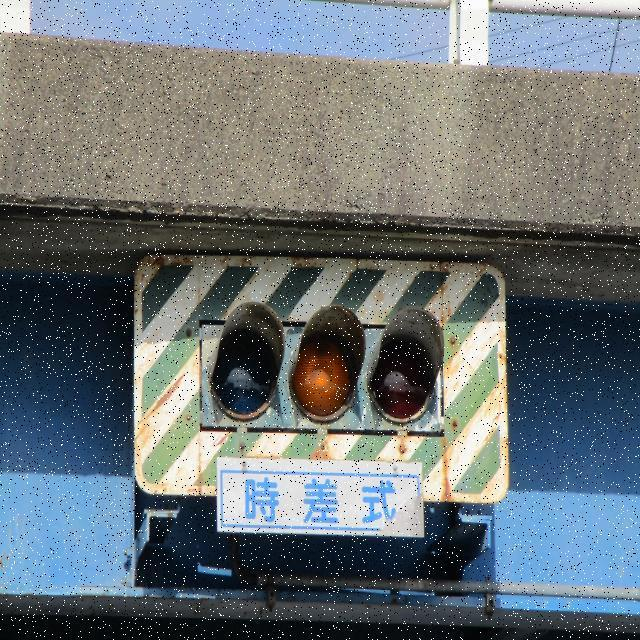yellow_light: (304, 333, 352, 428)
